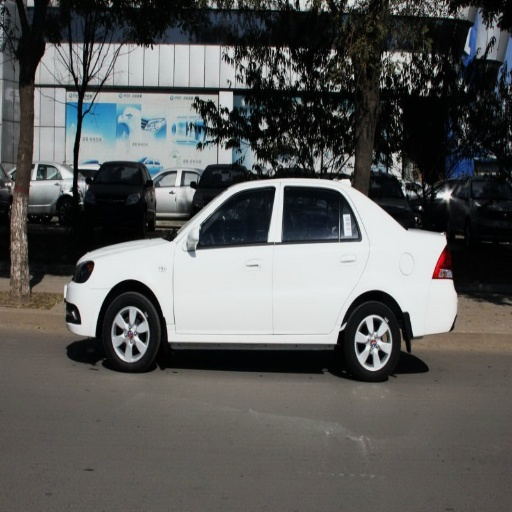back_bumper: (409, 281, 458, 341)
back_left_door: (272, 185, 368, 337)
front_left_door: (173, 184, 281, 334)
